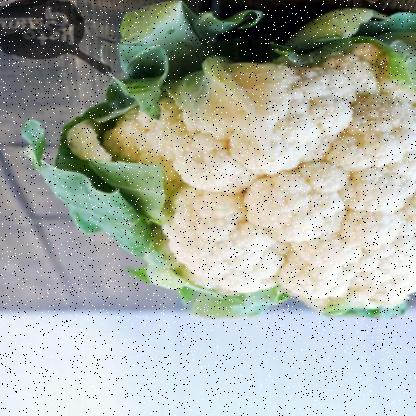cauliflower: (41, 3, 408, 311)
